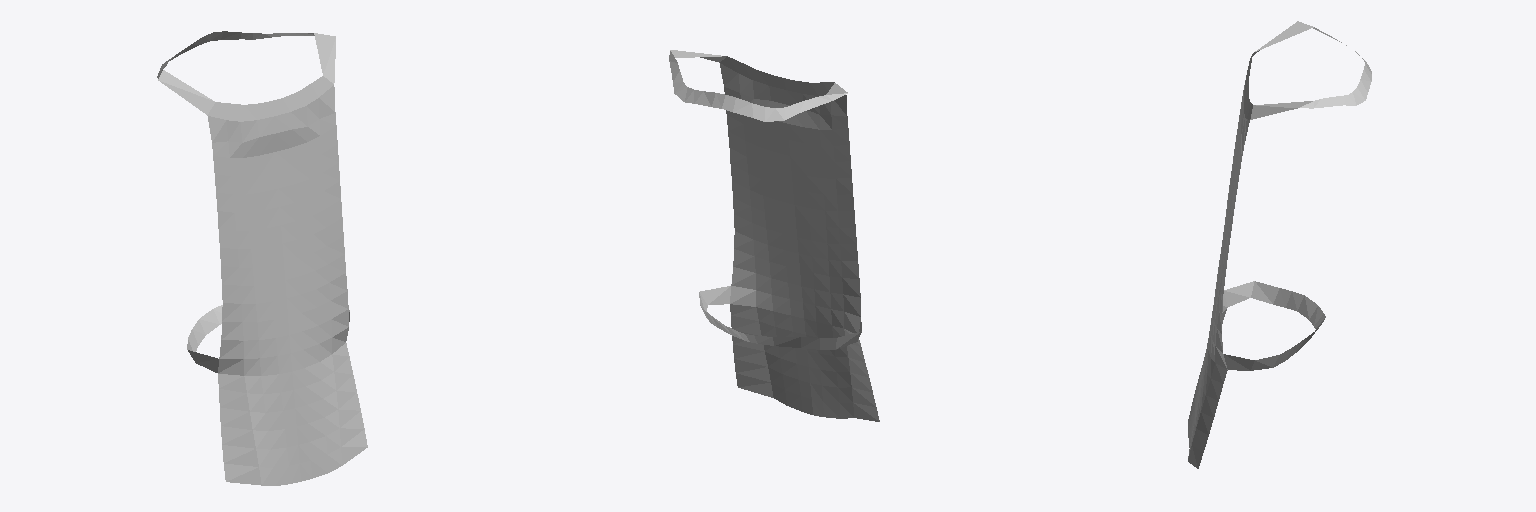
File: apron_2.obj
3 views of the same model, side by side, from view 1: azimuth 30°, elevation 25°; view 2: azimuth 150°, elevation 25°; view 3: azimuth 270°, elevation 25° (orthographic).
Visible parts, largest first — view 1: apron_2.004; view 2: apron_2.004; view 3: apron_2.004.
Part boxes in pixels (x1,y1,x2,y2): apron_2.004: (157, 31, 367, 485); apron_2.004: (669, 50, 879, 421); apron_2.004: (1188, 21, 1371, 468).
Size of the model in its own units: 0.7548 by 1.55 by 0.6748.